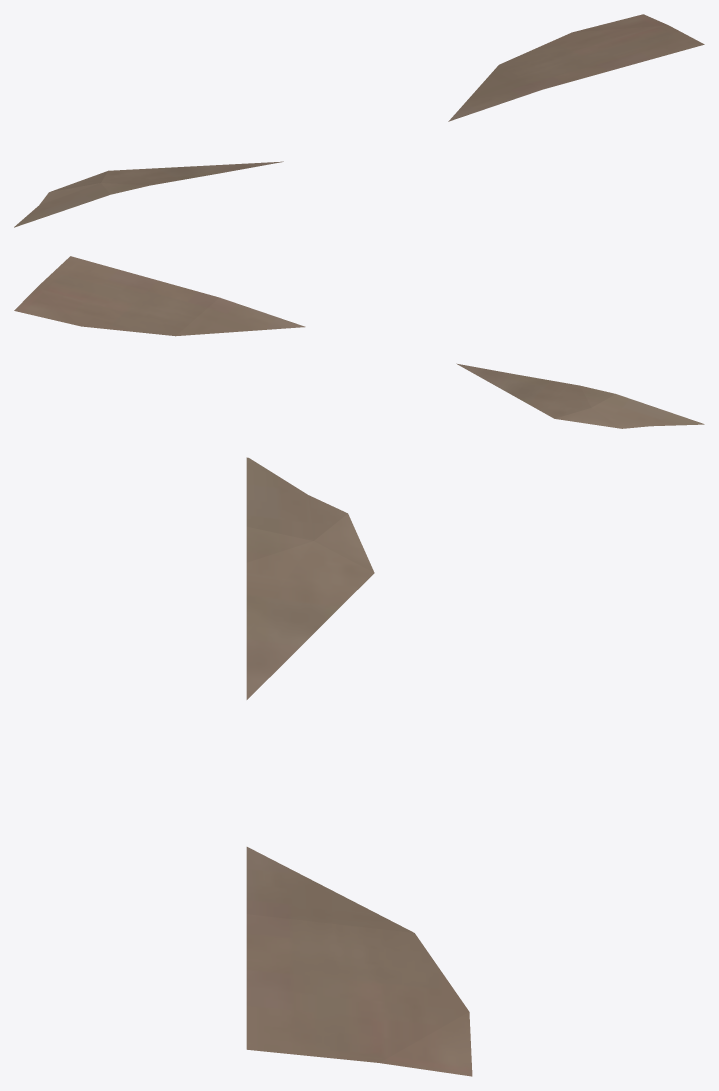
3 views of the same model, one above another, from view 1: azimuth 30°, elevation 25°; view 2: azimuth 150°, elevation 25°; view 3: azimuth 270°, elevation 25° (orthographic). The views are drawn at different scales.
Bounding box in the file's own units: 1.02 × 0.0207 × 0.1574.
Materials: 1 (1 with a texture image).
